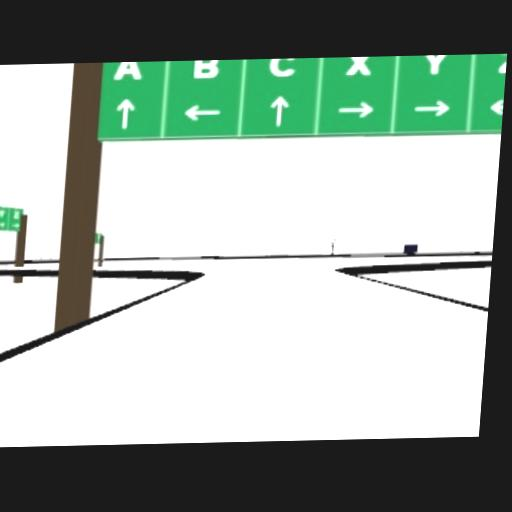A: (113, 61, 142, 79)
B: (192, 59, 219, 78)
C: (268, 57, 295, 76)
Left: (182, 104, 222, 121), (489, 98, 504, 114)
Right: (412, 99, 450, 116), (338, 100, 374, 116)
Straight: (115, 96, 136, 128), (268, 95, 288, 124)
X: (345, 56, 372, 74)
Y: (422, 54, 447, 72)
Z: (496, 55, 507, 71)
